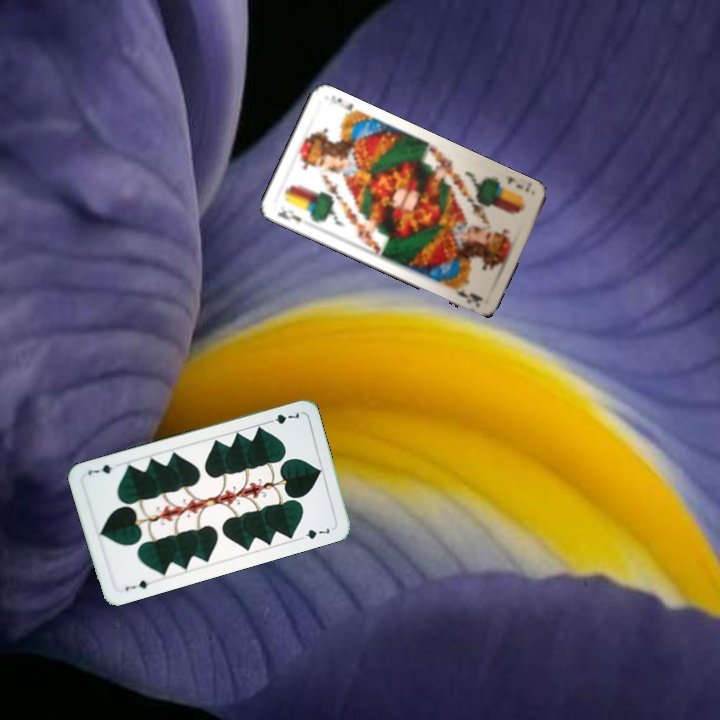EK: (273, 202, 304, 225), (503, 172, 533, 195)
G7: (263, 408, 302, 427), (121, 576, 151, 595)
